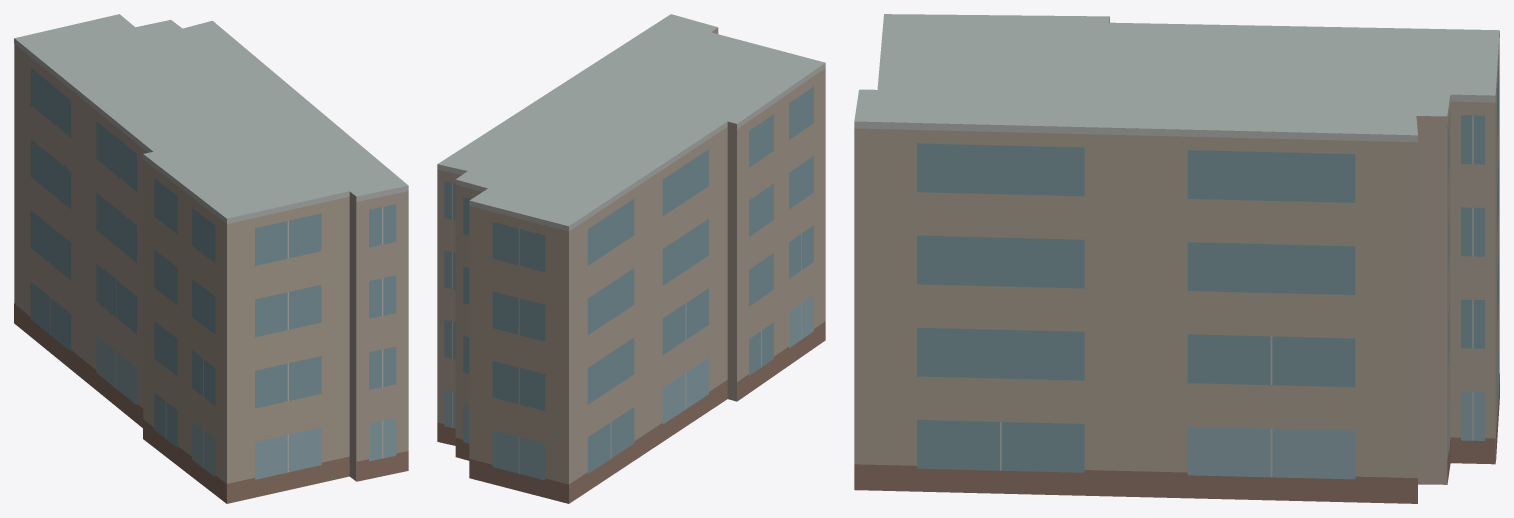
File: survey-upis-32659756.glb
3 views of the same model, side by side, from view 1: azimuth 30°, elevation 25°; view 2: azimuth 150°, elevation 25°; view 3: azimuth 270°, elevation 25° (orthographic). The views are drawn at different scales.
Parts seen in each view (by area): view 1: survey-upis-32659756.tmp; view 2: survey-upis-32659756.tmp; view 3: survey-upis-32659756.tmp.
Boxes of the visible parts, box(x1,y1,x2,y2) form: survey-upis-32659756.tmp: box(14, 14, 408, 503); survey-upis-32659756.tmp: box(437, 14, 825, 503); survey-upis-32659756.tmp: box(854, 14, 1499, 503).
Size of the model in its own units: 9.04 by 12.8 by 20.33.
